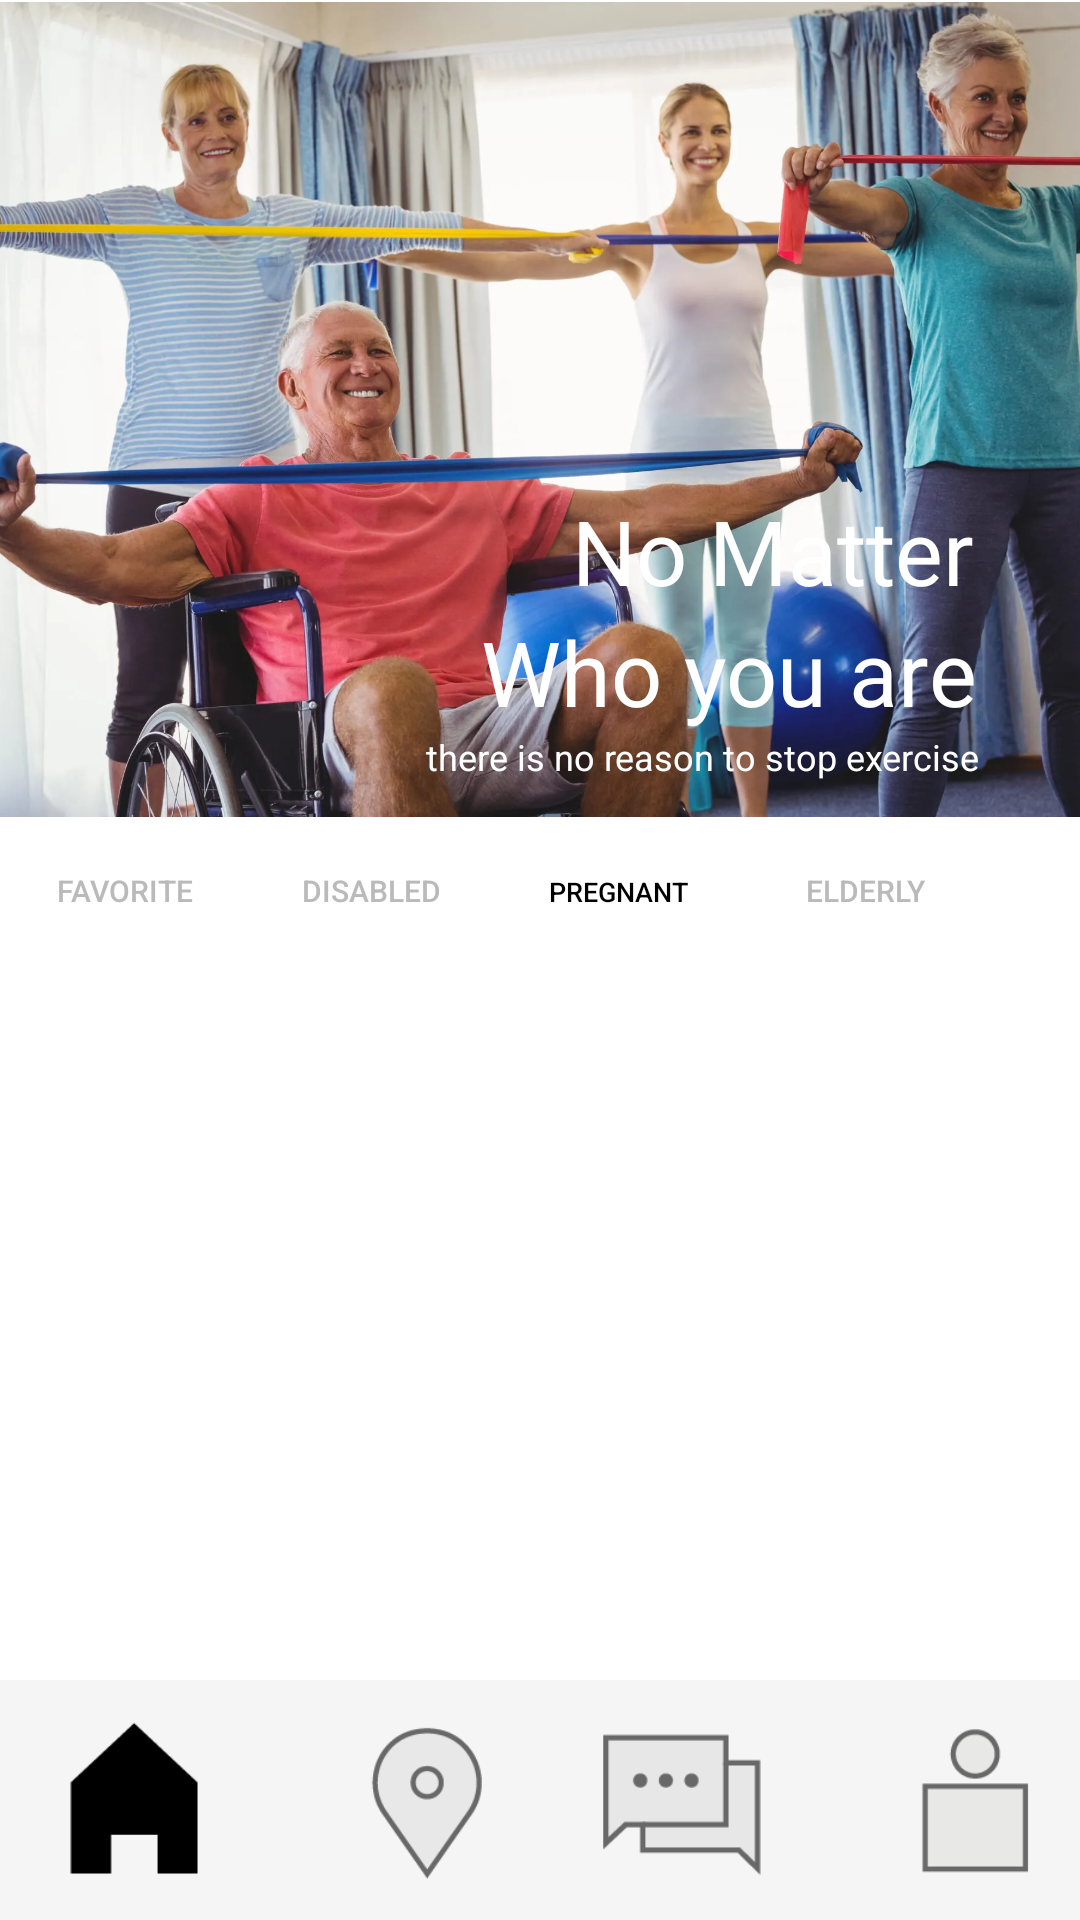

Screen size 1080px x 1920px. Icon name, then its box in pixels as (x1,y1,x2,y2):
homeblack: (70,1723,198,1874)
locationicon: (372,1728,482,1879)
personicon: (922,1729,1029,1873)
talkicon: (603,1734,761,1875)
